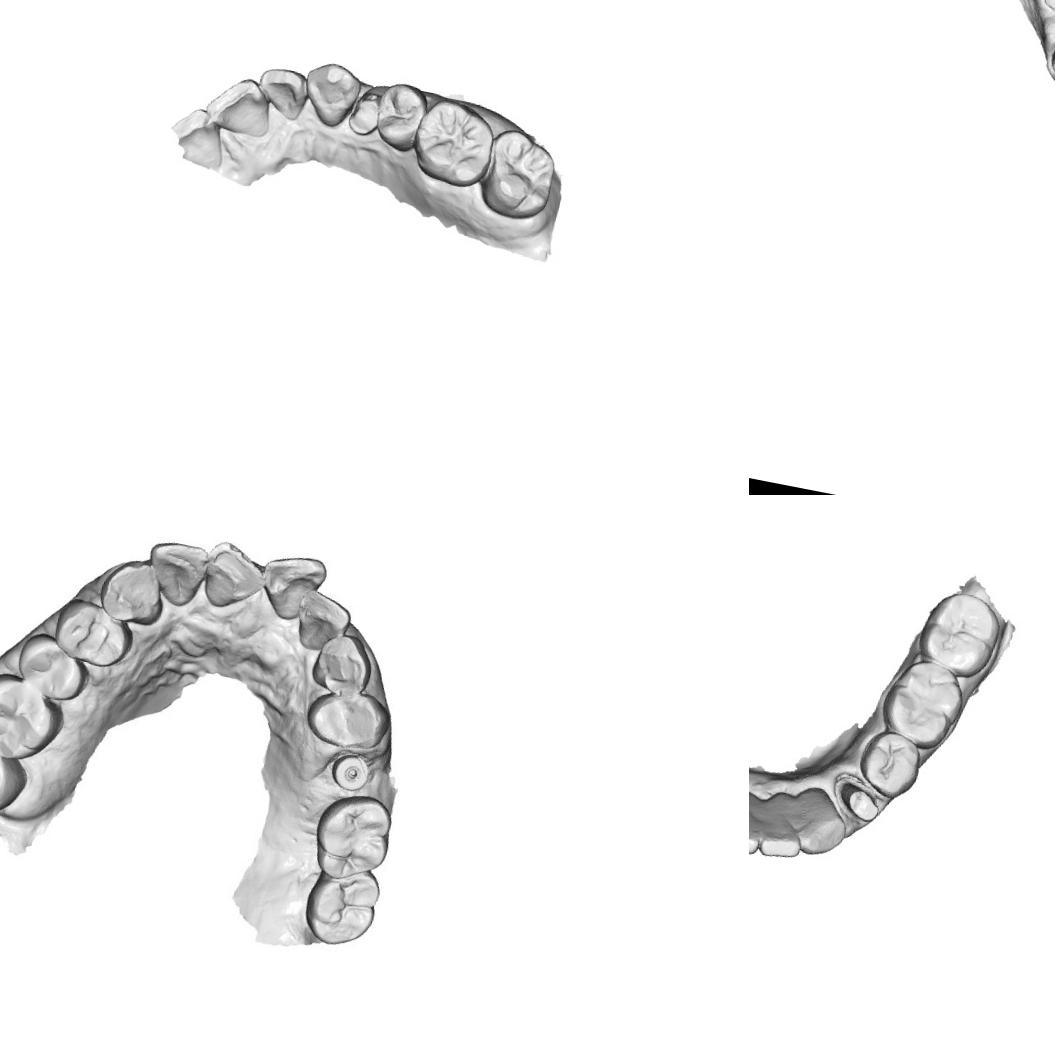canine: (306, 627, 379, 698), (296, 55, 362, 131), (102, 560, 174, 627), (793, 791, 852, 860)
crown: (830, 777, 887, 828), (1043, 26, 1055, 85)
implant: (329, 748, 373, 799)
incisor: (202, 70, 279, 144), (198, 537, 266, 619), (258, 550, 323, 618), (288, 592, 356, 656), (147, 538, 207, 606), (249, 63, 312, 123), (757, 795, 810, 865), (749, 803, 766, 857)
molar: (406, 92, 498, 190), (879, 655, 971, 753), (475, 125, 565, 224), (918, 586, 1005, 677), (313, 800, 395, 888), (304, 865, 382, 953), (0, 672, 56, 756), (0, 720, 26, 818)
premolar: (298, 684, 392, 754), (855, 726, 924, 800), (368, 78, 429, 155), (59, 603, 132, 667), (17, 636, 88, 700)
